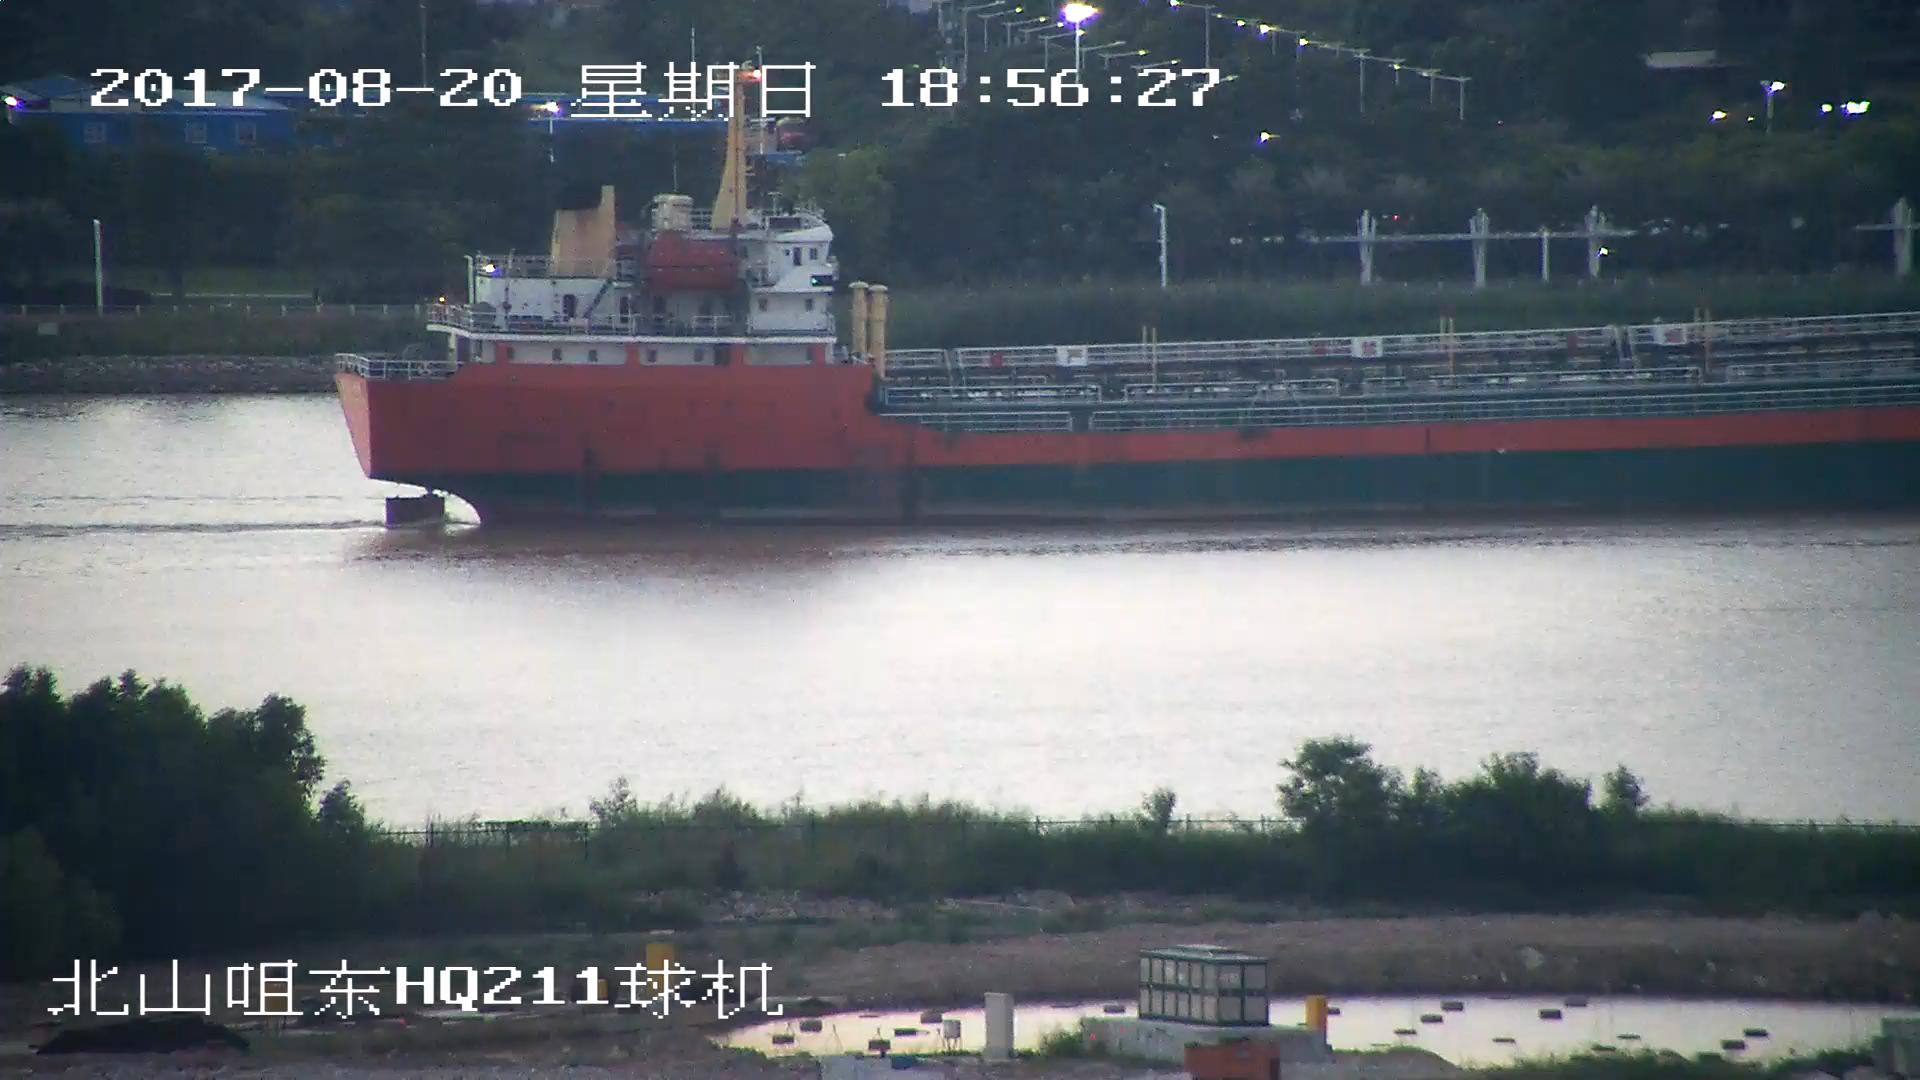general cargo ship: (331, 112, 1920, 533)
